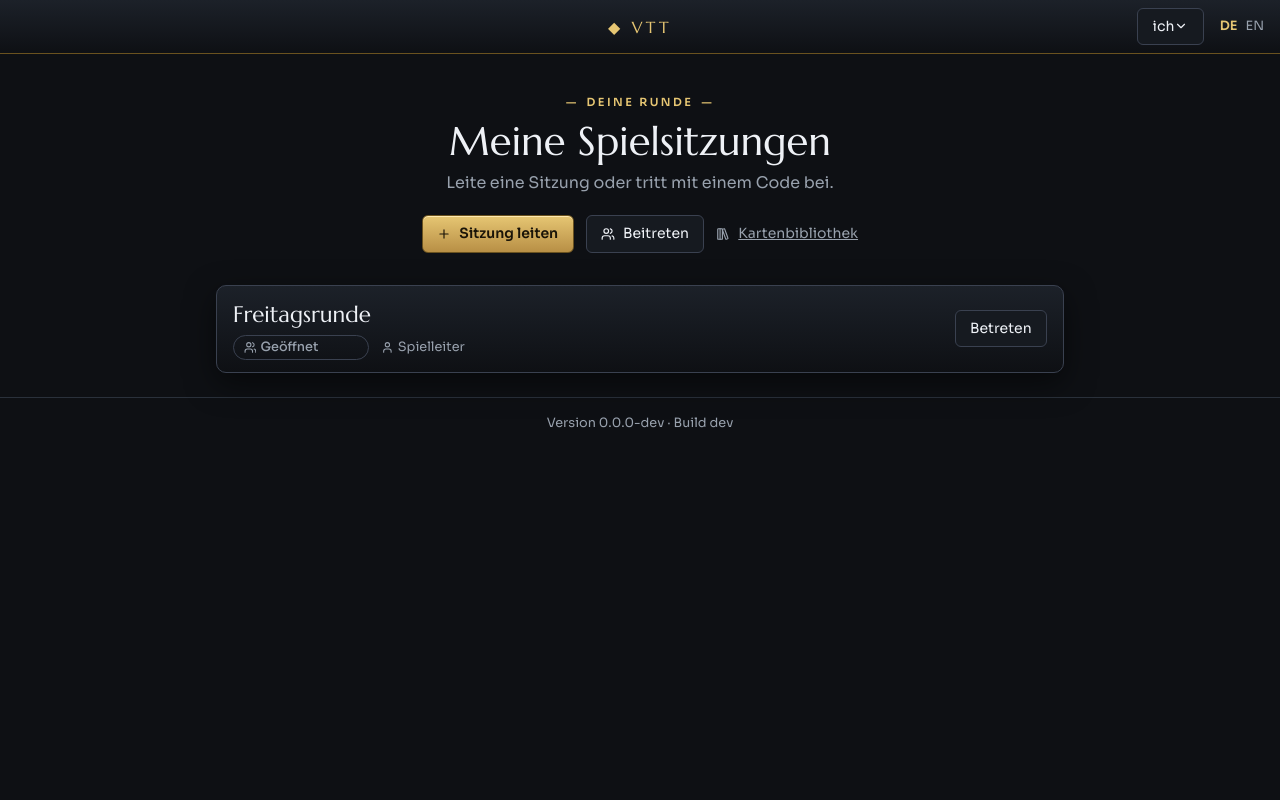
it: Sitzungscode wird kopiert
Expected: the heading "Freitagsrunde" is shown, left=233, top=300, right=371, bottom=328
Click the button "Betreten". click: [1001, 328]
box: left=955, top=310, right=1047, bottom=347
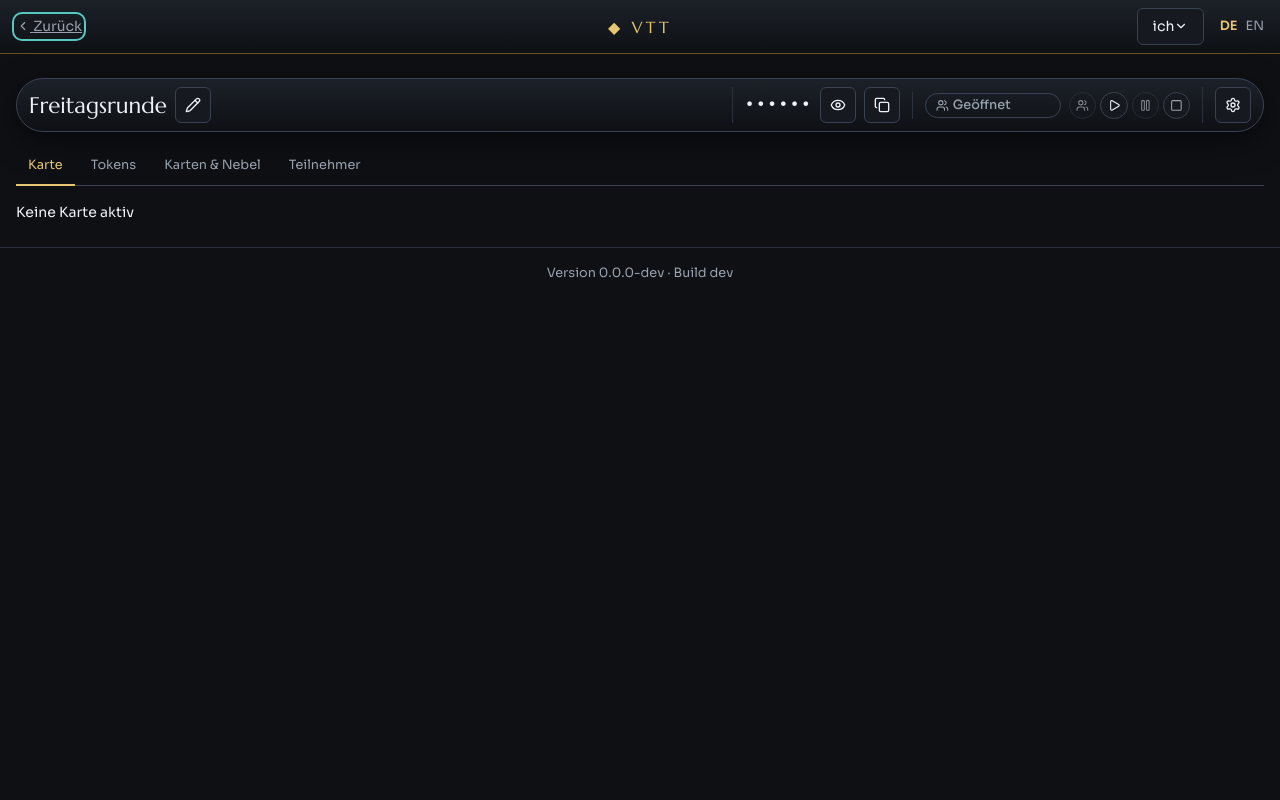
Expected: the element named "Sitzung" is shown, left=16, top=78, right=1264, bottom=132
Expected: the text "••••••" is shown, left=745, top=93, right=812, bottom=117
Click the button named "Sitzungscode kopieren". click: [882, 105]
box: left=864, top=87, right=900, bottom=123
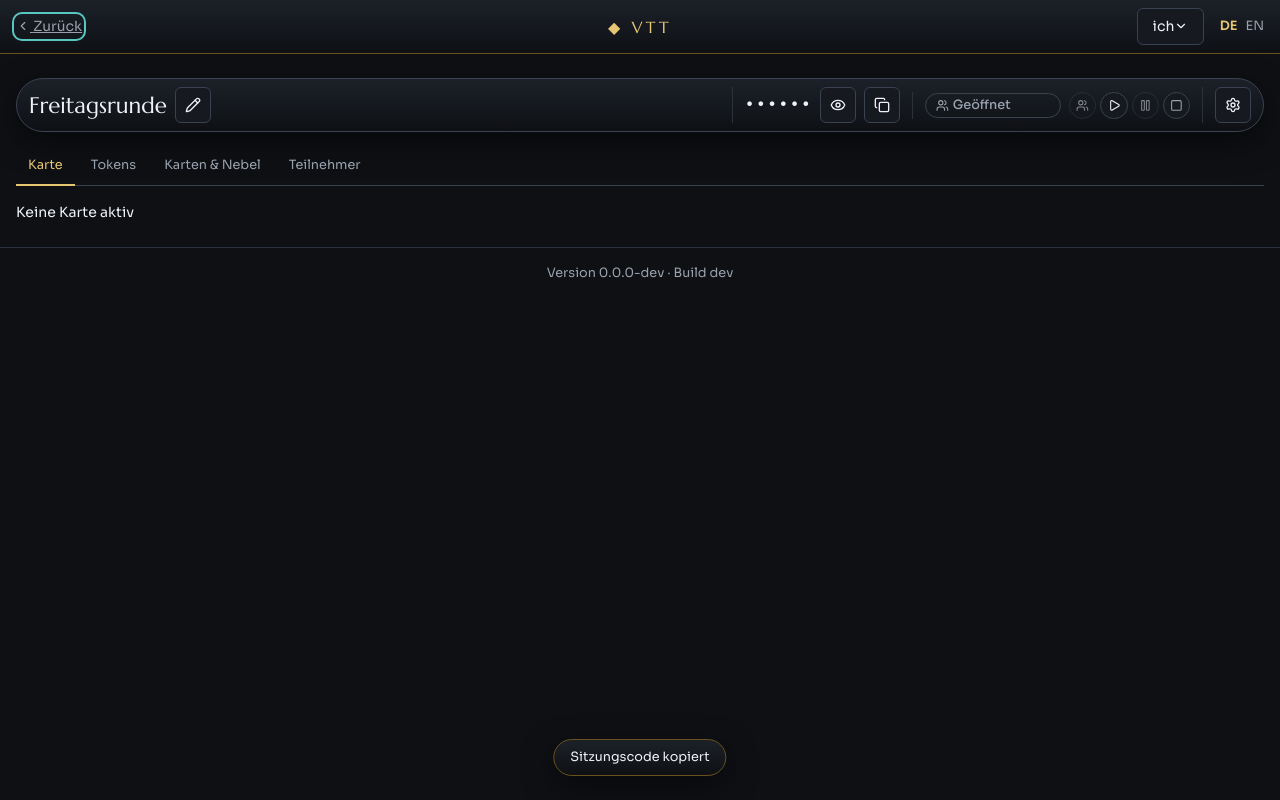
Expected: the text "••••••" is shown, left=745, top=93, right=812, bottom=117
Expected: the text "Sitzungscode kopiert" is shown, left=553, top=739, right=727, bottom=776
